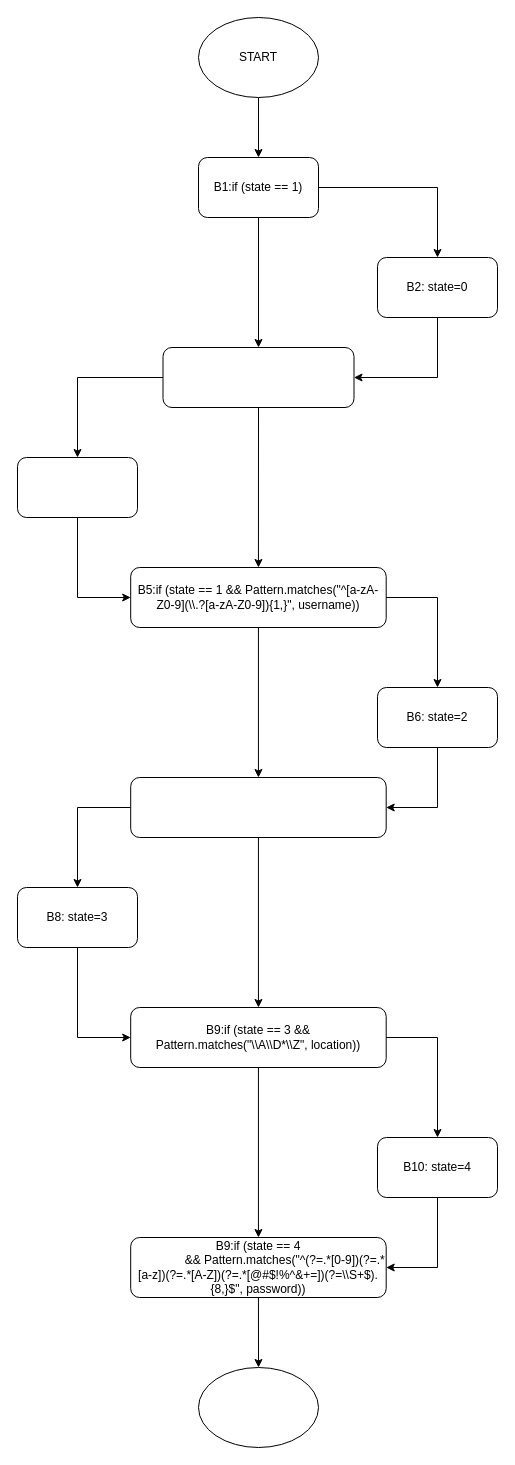
Image size: 515x1465. Some labels were removed from this diagram. The centre of each missing label's shape, as x and y in pixels:
B3:if (state == 0 && Pattern.matches("\\A\\D*\\Z", user)): the point at 258,377
B4: state=1: the point at 77,487
B7:if (state == 2 && age < 18): the point at 258,807
END: the point at 258,1407
